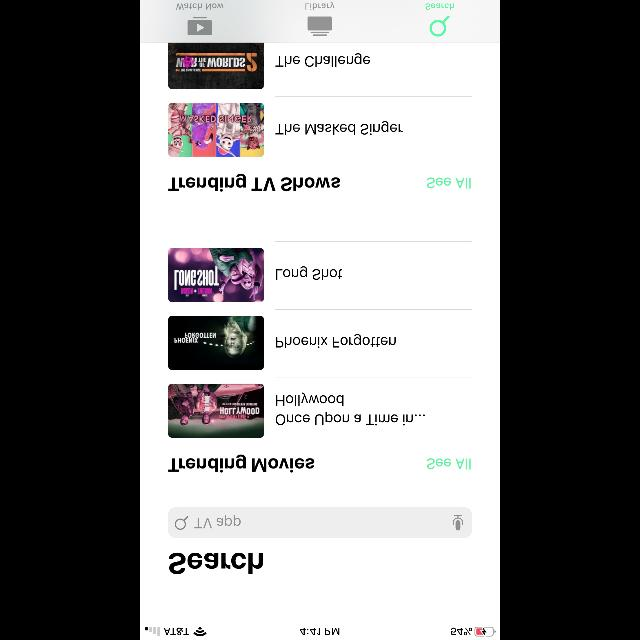icon: (308, 16, 332, 36), (188, 17, 212, 35), (429, 16, 449, 36), (176, 516, 188, 530), (453, 516, 463, 530)
image: (168, 248, 264, 302), (168, 384, 264, 438), (168, 316, 264, 369), (168, 43, 264, 89)
input: (168, 507, 472, 538)
text: (276, 392, 424, 426), (168, 174, 340, 192), (168, 454, 314, 472), (169, 552, 263, 574), (276, 121, 402, 135), (276, 334, 396, 348), (276, 53, 370, 67), (276, 266, 342, 280), (195, 516, 241, 528), (427, 458, 471, 469), (427, 178, 471, 188), (176, 4, 224, 10), (306, 2, 334, 10), (426, 4, 454, 10)
uppertaskbar: (140, 626, 500, 640)
